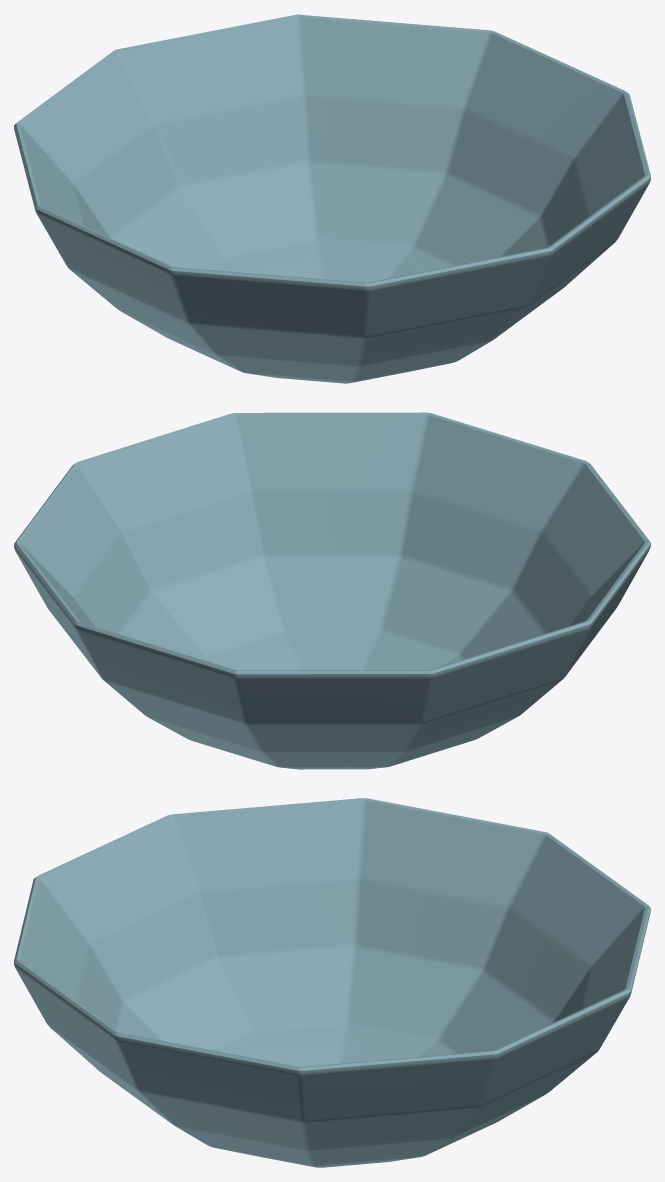
File: Floor_Lamp_Light.fbx
The picture shows the model from 3 angles, top to bottom: view 1: azimuth 30°, elevation 25°; view 2: azimuth 150°, elevation 25°; view 3: azimuth 270°, elevation 25°; orthographic projection. The views are drawn at different scales.
Visible parts, largest first — view 1: Floor_Lamp_Light; view 2: Floor_Lamp_Light; view 3: Floor_Lamp_Light.
Boxes of the visible parts, box(x1,y1,x2,y2) form: Floor_Lamp_Light: box(14, 14, 650, 383); Floor_Lamp_Light: box(14, 412, 650, 769); Floor_Lamp_Light: box(14, 798, 650, 1167).
Bounding box in the file's own units: 1.58 × 0.5655 × 1.55.
